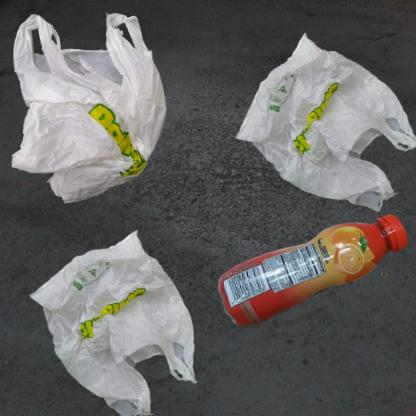bolsa: (213, 10, 416, 252), (10, 213, 226, 416), (10, 10, 169, 206)
botella: (213, 213, 416, 332)
